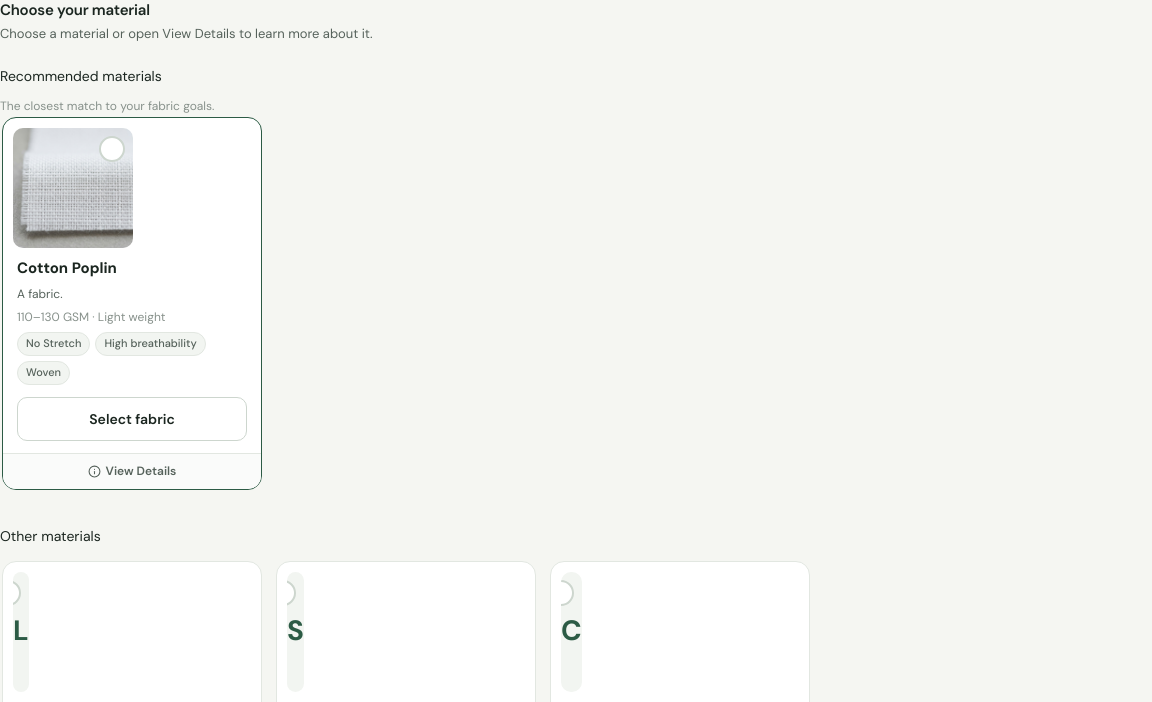
FabricRecommendation with AHP/TOPSIS data readiness › shows a data-backed sample ranking and its evidence while requiring an explicit choice
The image size is (1152, 702).
Expected: the element with test id "ranked-fabrics" is shown, 2,117 -> 262,490
Expected: the heading "Recommended materials" is shown, 0,67 -> 162,85
Click the button "View Details" at (132, 471), box 3,453 -> 261,490
(page scrolled)
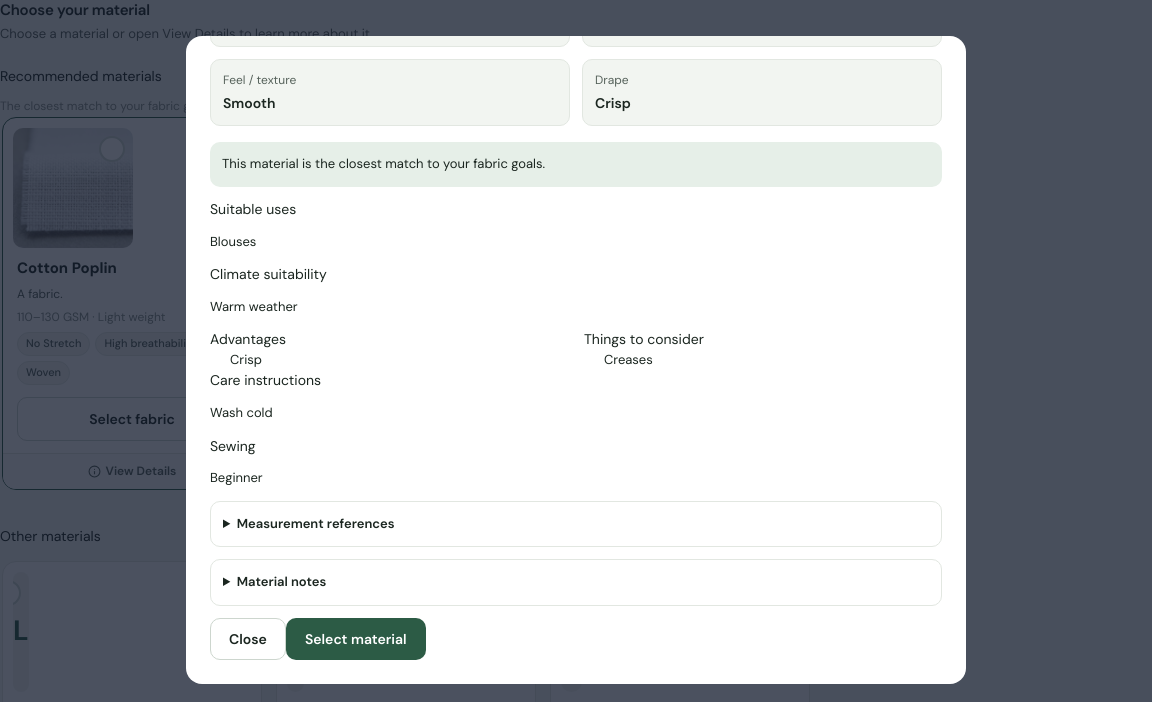
Click the heading "Measurement references" at (316, 523), box 237,515 -> 395,532
(page scrolled)
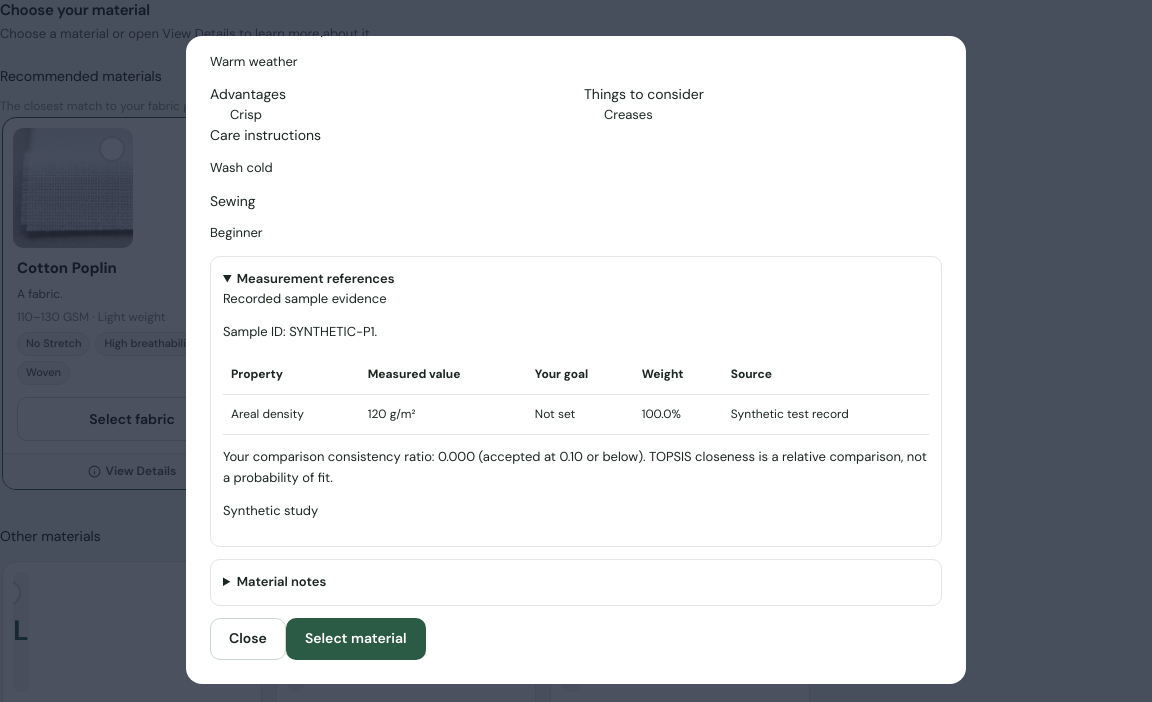
Expected: the heading "Recorded sample evidence" is shown, 223,290 -> 386,308
Expected: the cell "120 g/m²" is shown, 360,395 -> 527,435
Expected: the cell "Synthetic test record" is shown, 723,395 -> 929,435
